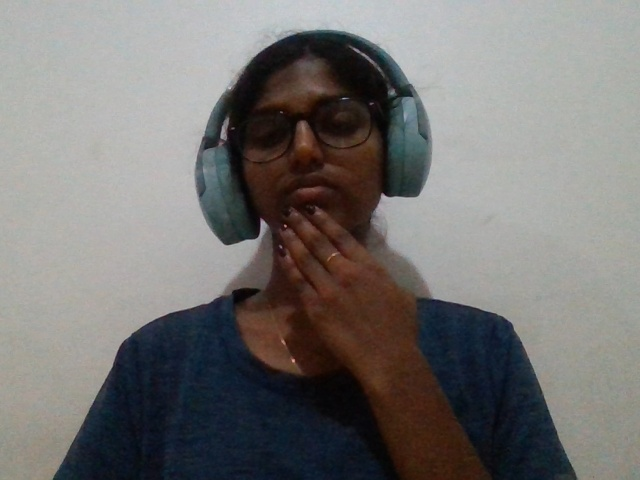Thanks: (235, 161, 463, 439)
